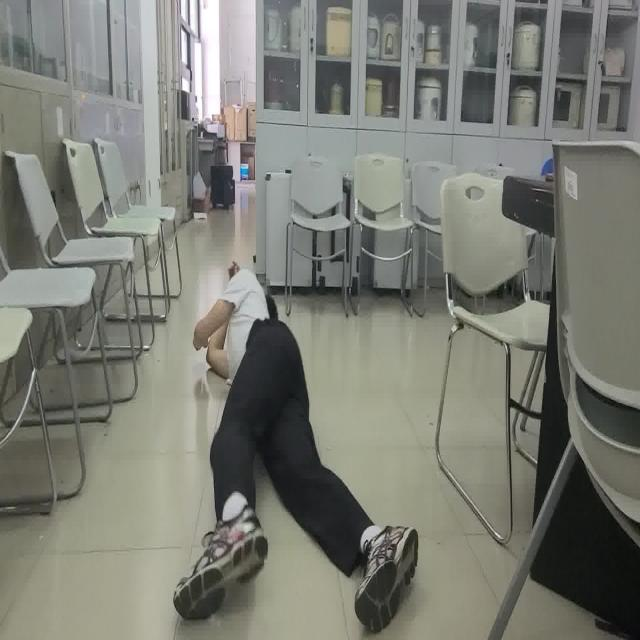Fall-Detected: (171, 262, 418, 630)
